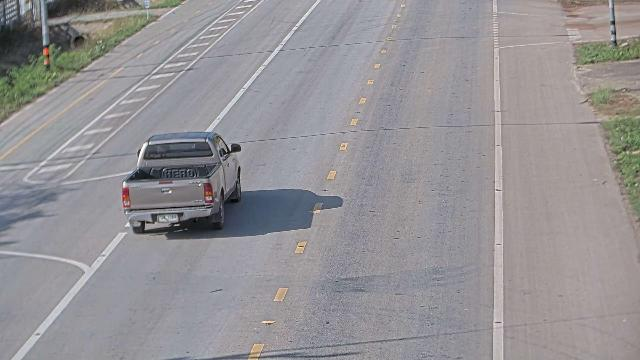pickup-truck: (121, 130, 243, 234)
